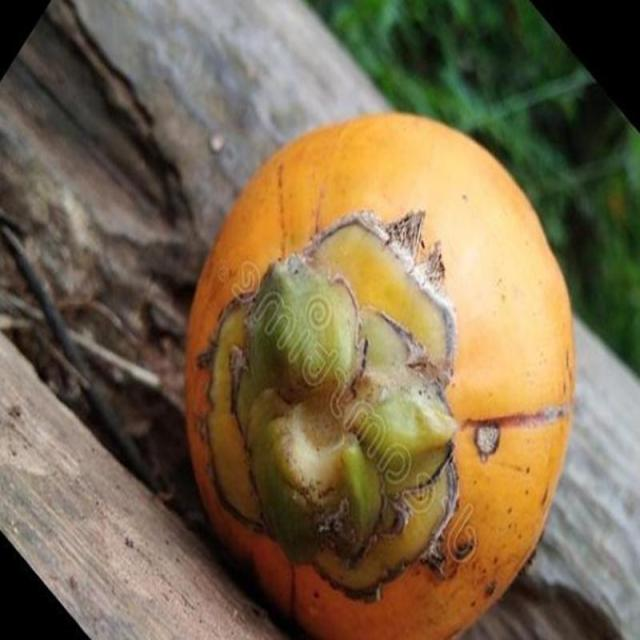good: (182, 113, 578, 639)
